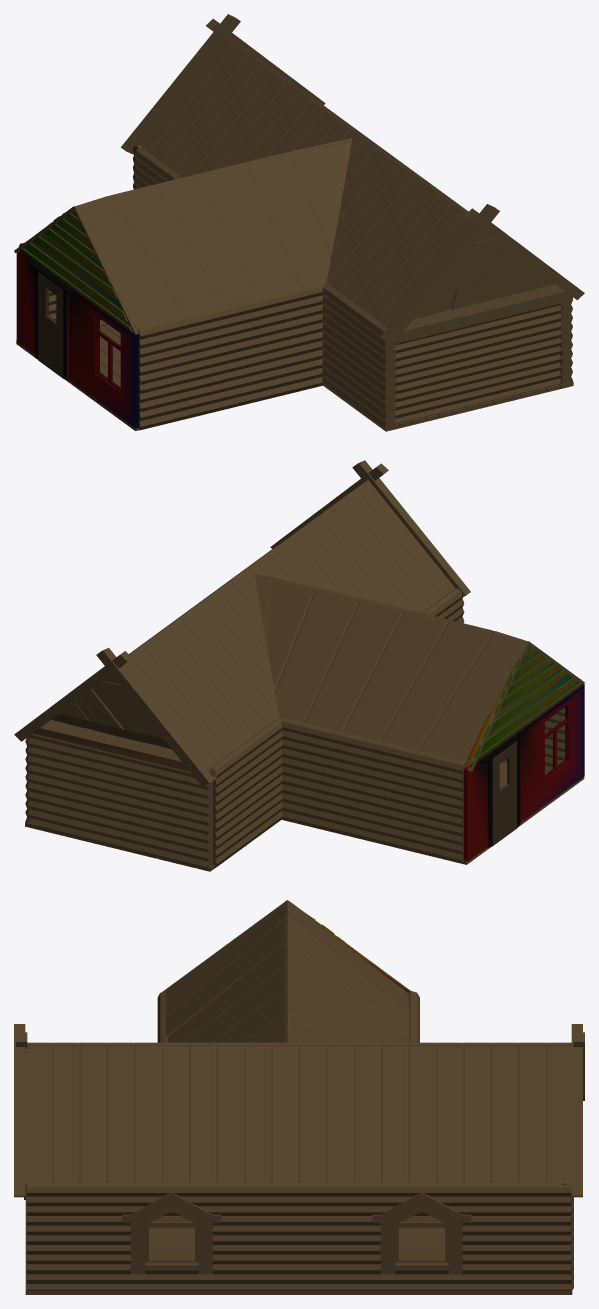
File: Casa bosque 5.fbx
3 renders of one model, top to bottom at view 1: azimuth 30°, elevation 25°; view 2: azimuth 150°, elevation 25°; view 3: azimuth 270°, elevation 25°, orthographic. The views are drawn at different scales.
Parts seen in each view (by area): view 1: Roof_01_b, Roof_01_b.003, Wall_Wide_02_b.005, Wall_Narrow_01_a, Wall_Narrow_02_b, Wall_Wide_02_b.001, Door_01, Floor_01_c, Wall_Wide_02_b.003, Wall_Wide_01_b.001, Floor_01_c.001; view 2: Roof_01_b, Roof_01_b.003, Wall_Wide_02_b.004, Wall_Wide_02_b.002, Wall_Narrow_01_a, Wall_Wide_02_b.003, Door_01, Wall_Wide_02_b.005, Wall_Wide_02_b.001, Floor_01_c; view 3: Roof_01_b, Wall_Wide_01_b.001, Roof_01_b.003, Floor_01_c.001, Wall_Wide_02_b.004.
Part boxes in pixels (box(x1,y1,x2,y2)): Roof_01_b: box(121, 14, 584, 344); Roof_01_b.003: box(14, 138, 352, 334); Wall_Wide_02_b.005: box(136, 282, 324, 430); Wall_Narrow_01_a: box(16, 210, 139, 428); Wall_Narrow_02_b: box(394, 303, 562, 423); Wall_Wide_02_b.001: box(322, 282, 396, 431); Door_01: box(38, 272, 64, 378); Floor_01_c: box(16, 324, 138, 430); Wall_Wide_02_b.003: box(134, 147, 182, 189); Wall_Wide_01_b.001: box(318, 101, 572, 384); Floor_01_c.001: box(387, 381, 573, 431); Roof_01_b: box(14, 460, 470, 786); Roof_01_b.003: box(254, 574, 584, 771); Wall_Wide_02_b.004: box(280, 716, 466, 863); Wall_Wide_02_b.002: box(28, 733, 215, 869); Wall_Narrow_01_a: box(463, 646, 584, 861); Wall_Wide_02_b.003: box(211, 718, 282, 867); Door_01: box(491, 741, 517, 846); Wall_Wide_02_b.005: box(503, 679, 581, 772); Wall_Wide_02_b.001: box(422, 588, 464, 623); Floor_01_c: box(282, 761, 584, 864); Roof_01_b: box(14, 1024, 584, 1197); Wall_Wide_01_b.001: box(26, 1183, 571, 1290); Roof_01_b.003: box(162, 900, 410, 1042); Floor_01_c.001: box(25, 1197, 572, 1294); Wall_Wide_02_b.004: box(407, 991, 419, 1042).
Bounding box in the file's own units: 850 × 426 × 1013.
